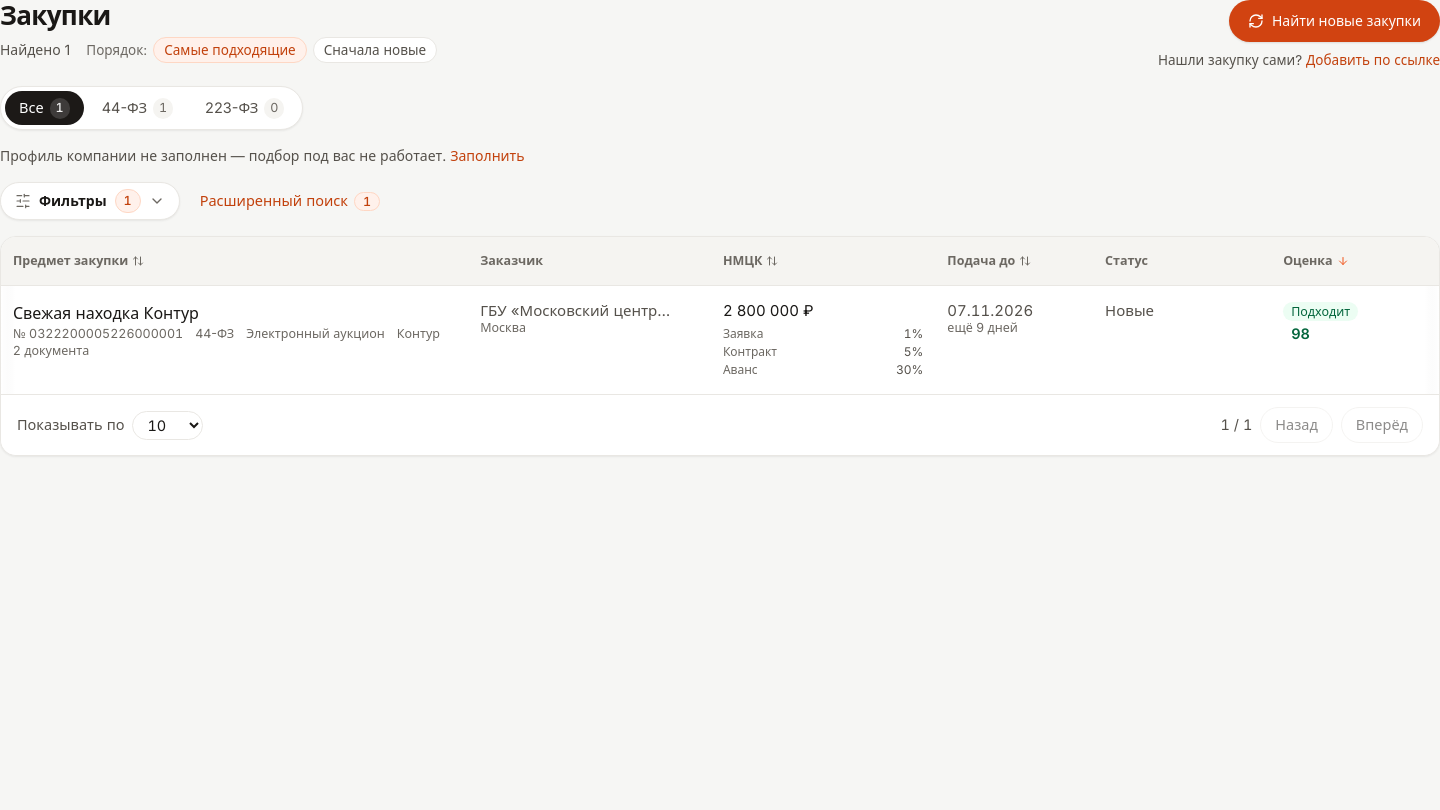
Test: TendersView — порядок выдачи по свежести › чип партии снимает ограничение и возвращает всю ленту
Click the button "Расширенный поиск1": x=290, y=201 [200,190,380,212]
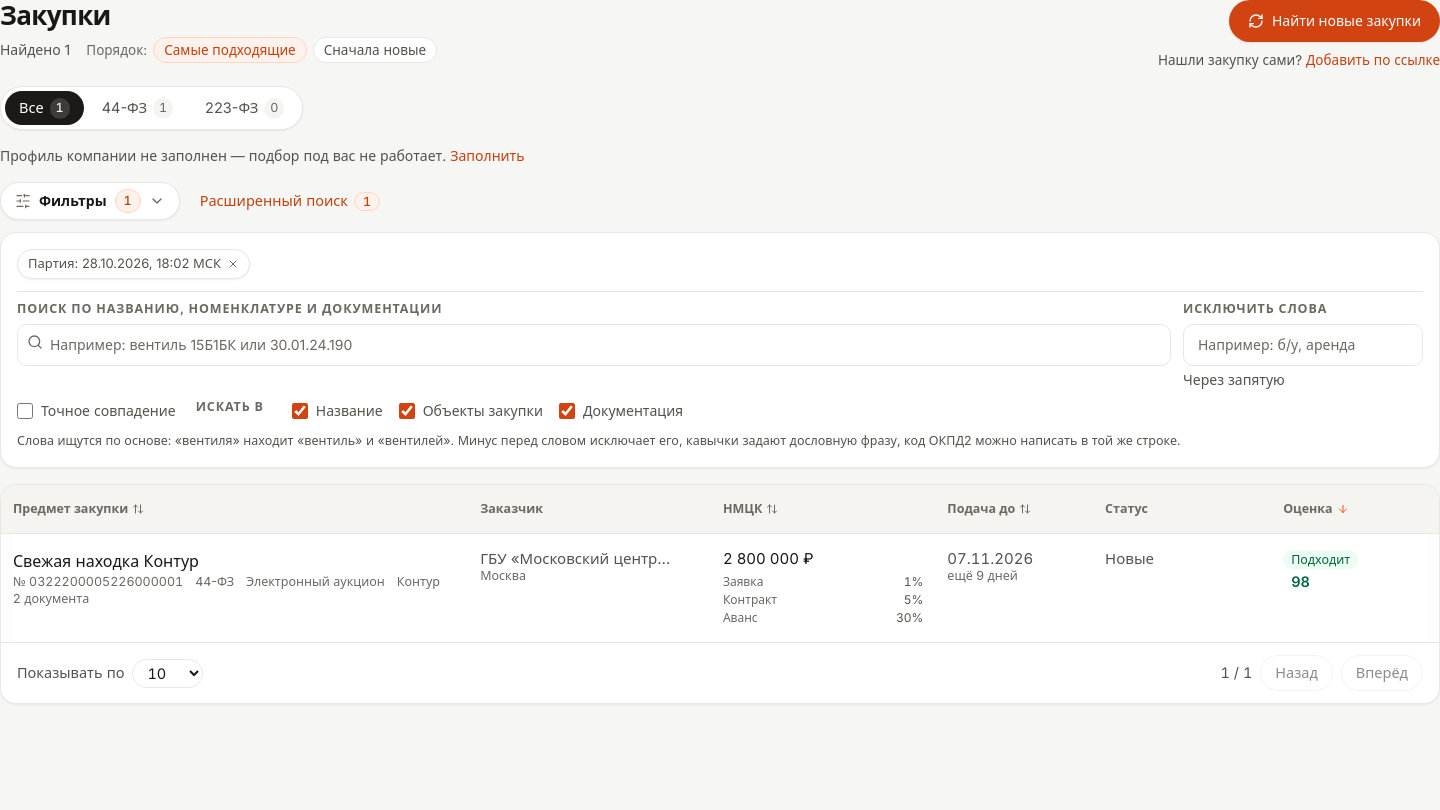
Click the button named "Снять фильтр: Партия": x=233, y=264 [227,258,239,270]
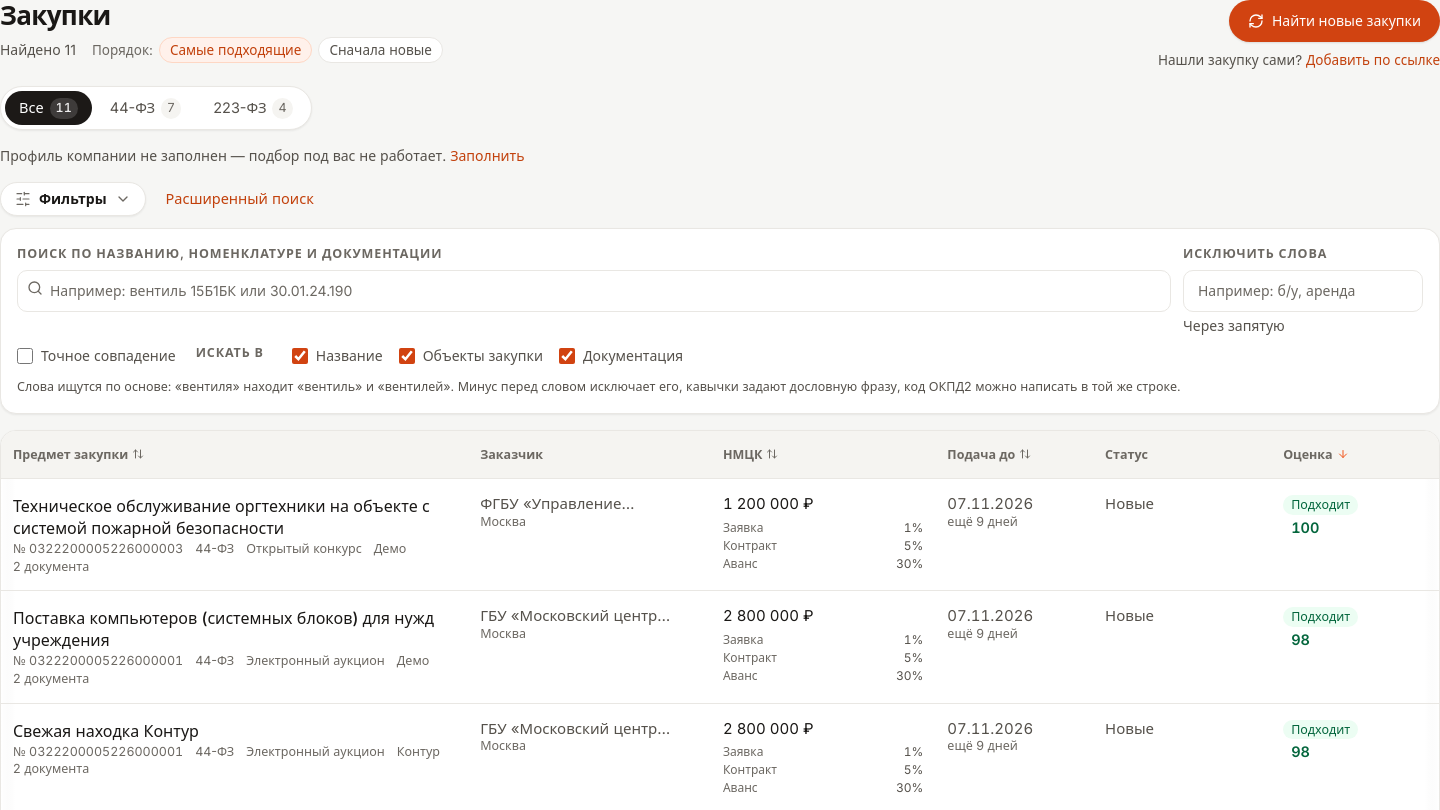
Expected: the text "Найдено 11" is shown, [0,40,76,60]
